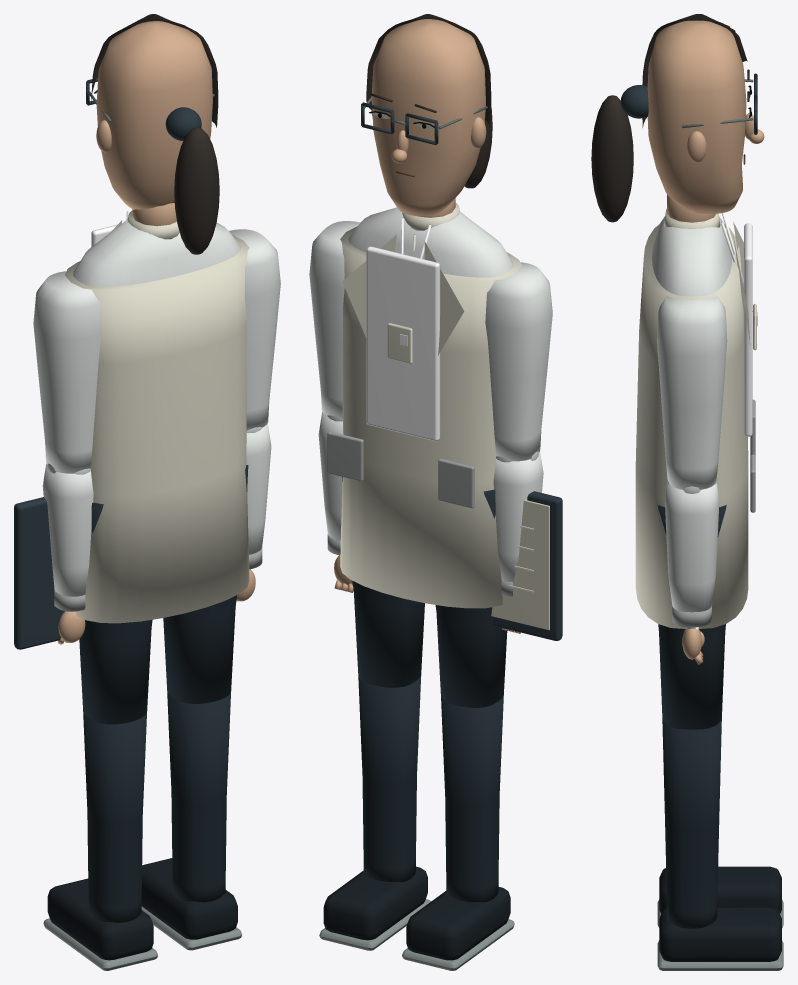
Rendered from npc_lab.glb.
3 views of the same model, side by side, from view 1: azimuth 30°, elevation 25°; view 2: azimuth 150°, elevation 25°; view 3: azimuth 270°, elevation 25° (orthographic).
Visible parts, largest first — view 1: CoatLapel, AdultFace, Knee.001, Knee, Sleeve, TrouserThigh, QuietClothTorso, TrouserThigh.001, Eyebrow, Clipboard, Sleeve.001, ElbowTransition (+8 smaller); view 2: CoatLapel, AdultFace, IDPhoto, Knee.001, Knee, Sleeve, TrouserThigh, TrouserThigh.001, QuietClothTorso, Sleeve.001, OrdinaryShoe, OrdinaryShoe.001 (+9 smaller); view 3: CoatLapel, AdultFace, Sleeve.001, Knee.001, ElbowTransition.001, TrouserThigh.001, OrdinaryShoe.001, Eyebrow, QuietClothTorso, OrdinaryShoe, IDPhoto, ShoeSole.001 (+5 smaller).
Boxes of the visible parts, left/top/right/bottom form: CoatLapel: left=65, top=211, right=249, bottom=623; AdultFace: left=96, top=21, right=212, bottom=209; Knee.001: left=167, top=690, right=230, bottom=902; Knee: left=83, top=710, right=146, bottom=922; Sleeve: left=33, top=271, right=101, bottom=473; TrouserThigh: left=79, top=502, right=152, bottom=724; QuietClothTorso: left=73, top=219, right=240, bottom=286; TrouserThigh.001: left=163, top=465, right=248, bottom=703; Eyebrow: left=91, top=14, right=219, bottom=254; Clipboard: left=14, top=497, right=64, bottom=649; Sleeve.001: left=229, top=229, right=280, bottom=430; ElbowTransition: left=42, top=463, right=93, bottom=596; CoatLapel: left=340, top=203, right=521, bottom=608; AdultFace: left=371, top=19, right=486, bottom=216; IDPhoto: left=366, top=218, right=440, bottom=441; Knee.001: left=358, top=674, right=421, bottom=882; Knee: left=441, top=694, right=503, bottom=902; Sleeve: left=485, top=262, right=552, bottom=461; TrouserThigh: left=435, top=489, right=507, bottom=707; TrouserThigh.001: left=342, top=477, right=424, bottom=687; QuietClothTorso: left=348, top=207, right=513, bottom=277; Sleeve.001: left=309, top=221, right=360, bottom=418; OrdinaryShoe: left=406, top=887, right=510, bottom=960; OrdinaryShoe.001: left=323, top=866, right=427, bottom=940; CoatLapel: left=635, top=209, right=756, bottom=628; AdultFace: left=647, top=20, right=764, bottom=213; Sleeve.001: left=657, top=296, right=727, bottom=489; Knee.001: left=662, top=717, right=721, bottom=928; ElbowTransition.001: left=665, top=477, right=719, bottom=612; TrouserThigh.001: left=657, top=505, right=726, bottom=729; OrdinaryShoe.001: left=659, top=907, right=781, bottom=961; Eyebrow: left=591, top=14, right=749, bottom=222; QuietClothTorso: left=652, top=217, right=732, bottom=296; OrdinaryShoe: left=659, top=866, right=781, bottom=913; IDPhoto: left=720, top=212, right=757, bottom=436; ShoeSole.001: left=657, top=940, right=783, bottom=970.
Bounding box in the file's own units: 0.442 × 1.54 × 0.29.
